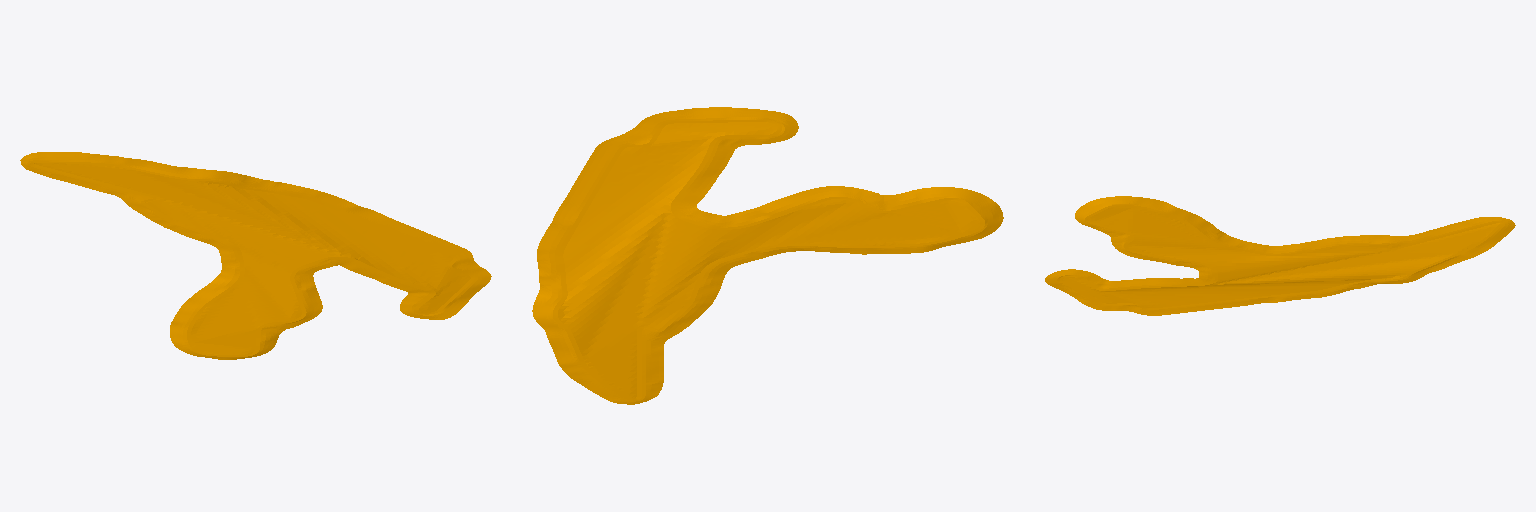
The robot description file, URDF, robot "spa_circuit":
<?xml version="1.0" ?>
<robot name="spa_circuit">
  <link name="link">
    <visual>
      <geometry>
        <mesh filename="package://f1/models/spa/meshes/spa.dae"/>
      </geometry>
    </visual>
  </link>
</robot>

--- Facts derived from the render (not from the file) ---
3 views of the same robot in one strip: view 1: azimuth 30°, elevation 25°; view 2: azimuth 150°, elevation 25°; view 3: azimuth 270°, elevation 25° (orthographic).
Robot: spa_circuit — 1 links, 0 joints (none); root link link; default pose: every joint at zero.
Links seen in each view (by area): view 1: link; view 2: link; view 3: link.
Boxes of the visible links, <box> form: link: <box>20,152,491,359</box>; link: <box>532,107,1003,404</box>; link: <box>1045,196,1515,315</box>.
Size in the robot's own frame: 2232 by 3468 by 122 metres.
1 mesh visuals loaded from 1 distinct referenced files (1 Collada DAE).
